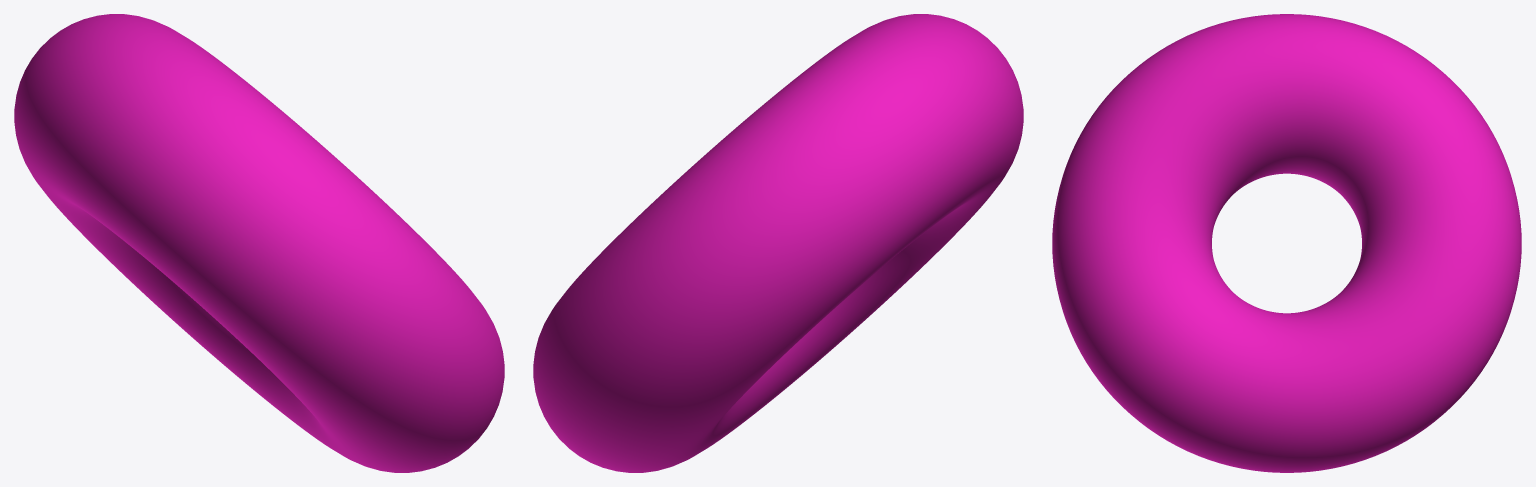
3 views of the same model, side by side, from view 1: azimuth 30°, elevation 25°; view 2: azimuth 150°, elevation 25°; view 3: azimuth 270°, elevation 25° (orthographic). The views are drawn at different scales.
Visible parts, largest first — view 1: Torus.001; view 2: Torus.001; view 3: Torus.001.
Part boxes in pixels (box(x1,y1,x2,y2)): Torus.001: box(14, 14, 504, 472); Torus.001: box(533, 14, 1023, 472); Torus.001: box(1052, 14, 1521, 472).
Size of the model in its own units: 1.75 by 1.94 by 2.29.
